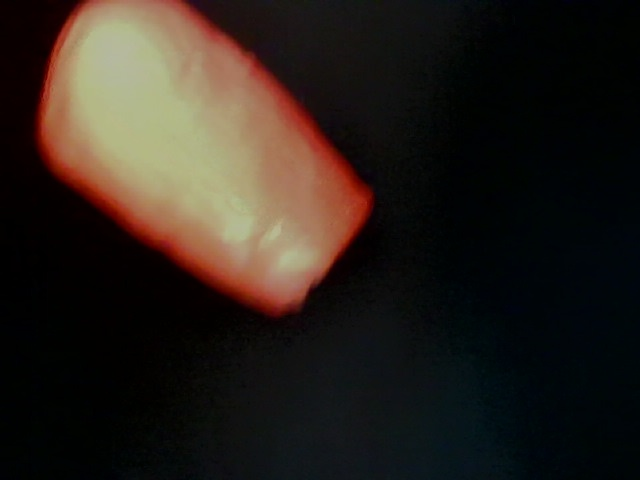YHLJ: (133, 322, 385, 474)
